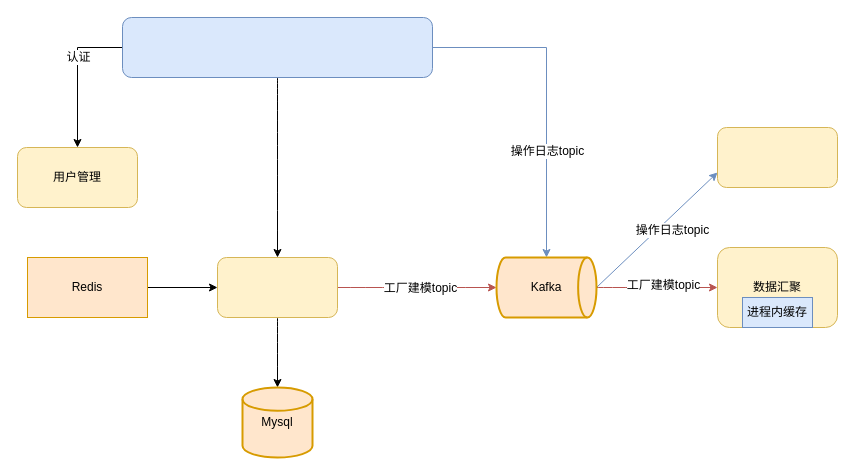
Some shapes in this 855 by 476 pixel diagram are drawn without their labels. Each missing label, with the centre of its shape:
API 网关: pixel 277 47
工厂建模: pixel 277 287
操作日志: pixel 777 157
